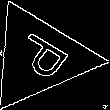P_SE: (5, 28, 74, 87)
